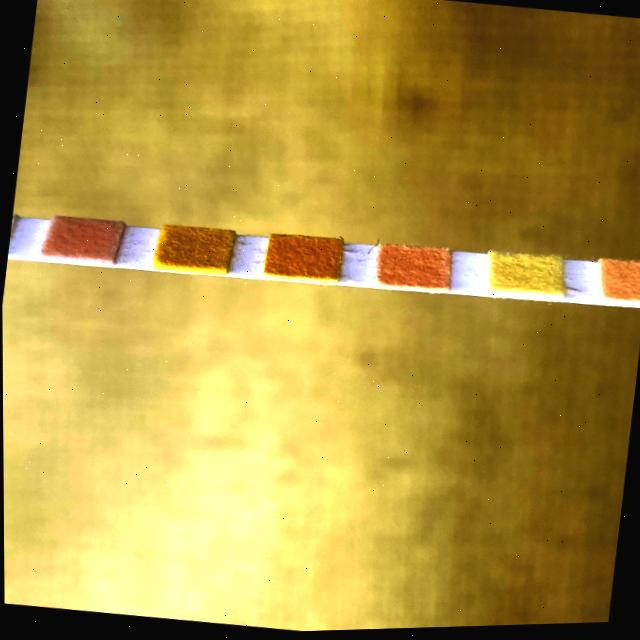Blood: (266, 233, 341, 283)
Ketone: (53, 216, 116, 261)
Protein: (489, 253, 563, 299)
SpGravity: (158, 225, 228, 272)
Urobilinogen: (604, 262, 640, 306)
pH: (379, 245, 449, 293)
